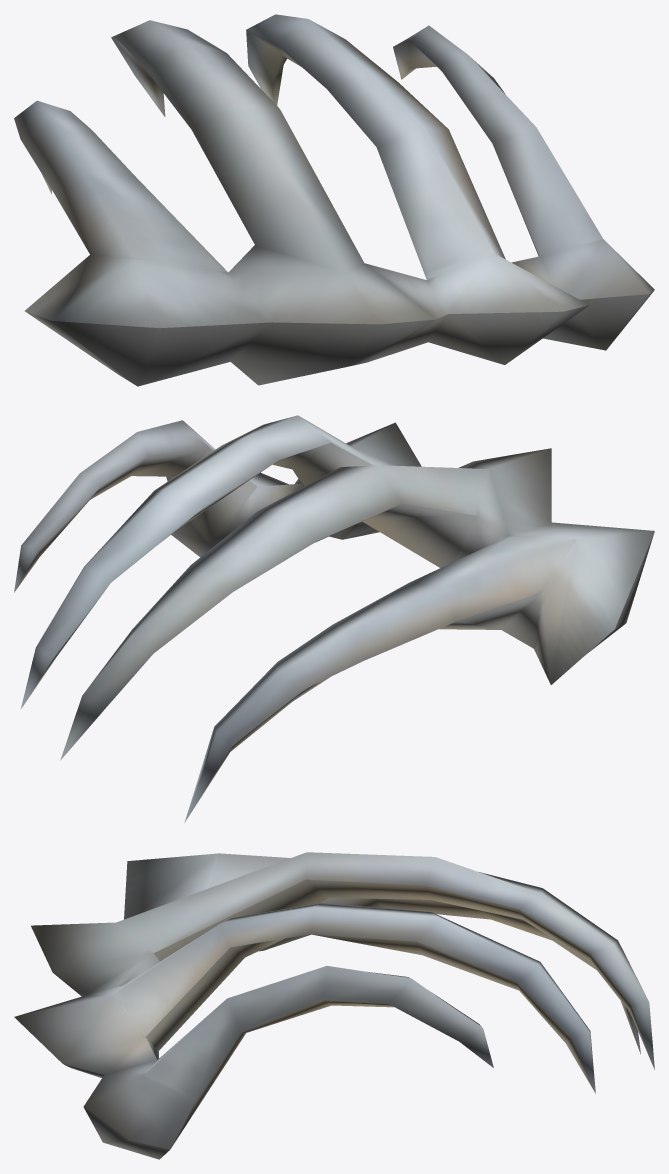
File: LGhuangyuan_longgu02.FBX
The picture shows the model from 3 angles, top to bottom: view 1: azimuth 30°, elevation 25°; view 2: azimuth 150°, elevation 25°; view 3: azimuth 270°, elevation 25°; orthographic projection. The views are drawn at different scales.
Parts seen in each view (by area): view 1: LGhuangyuan_longgu02; view 2: LGhuangyuan_longgu02; view 3: LGhuangyuan_longgu02.
Boxes of the visible parts, x1,y1,x2,y2 form: LGhuangyuan_longgu02: [14, 14, 654, 386]; LGhuangyuan_longgu02: [14, 415, 654, 822]; LGhuangyuan_longgu02: [14, 852, 654, 1159].
Size of the model in its own units: 117 by 143 by 50.2.
